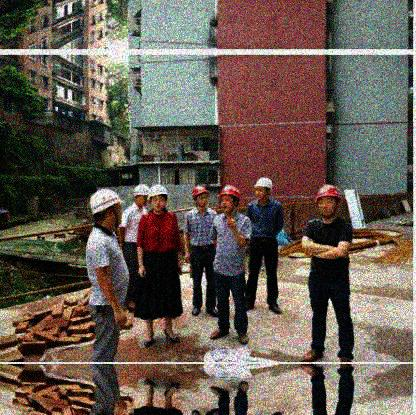helmet: (88, 188, 128, 229), (315, 184, 341, 218), (217, 185, 241, 214), (149, 183, 170, 212), (253, 176, 274, 202), (133, 184, 150, 207), (192, 186, 210, 207)
